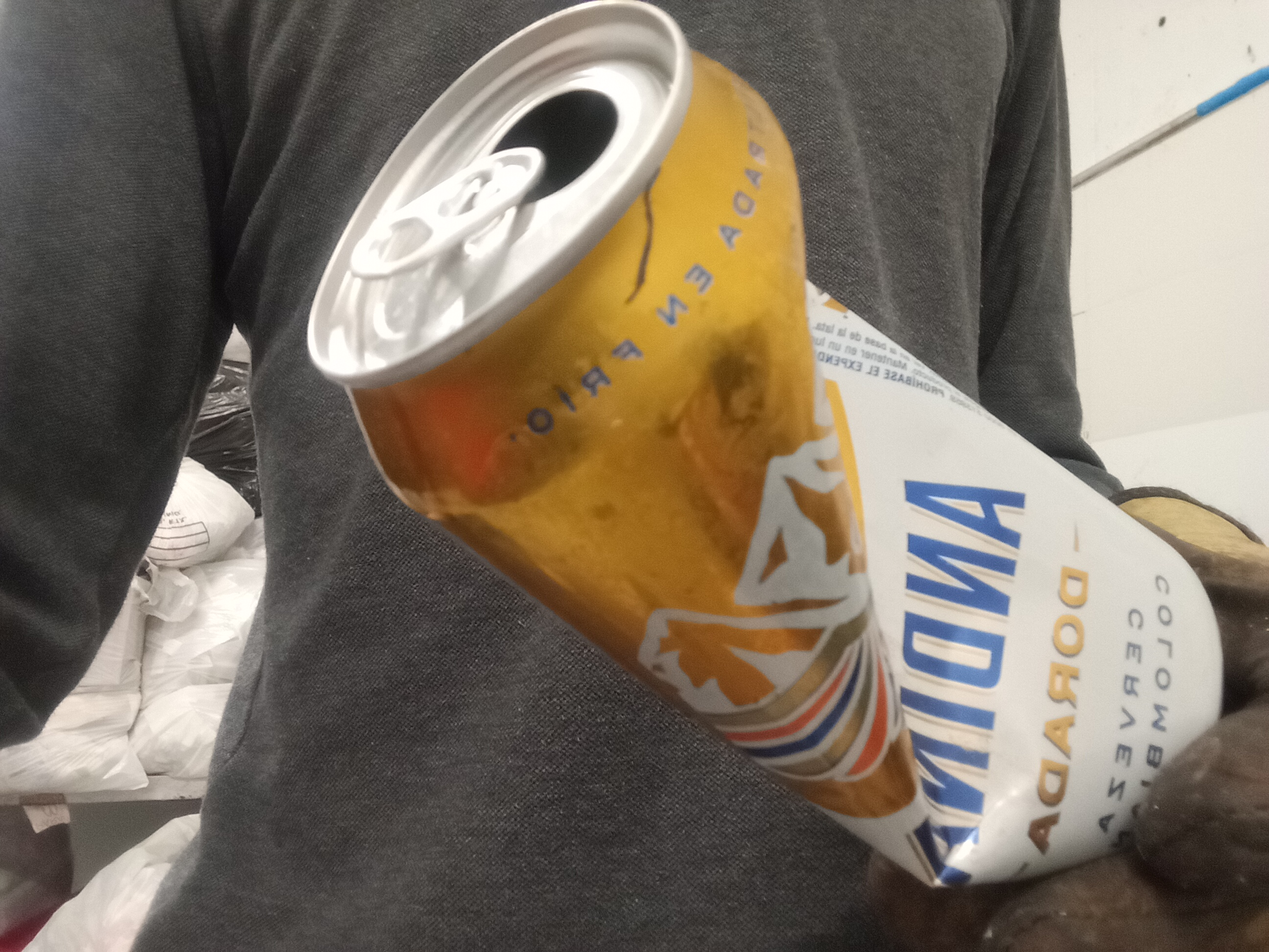Metal: (307, 0, 1224, 888)
